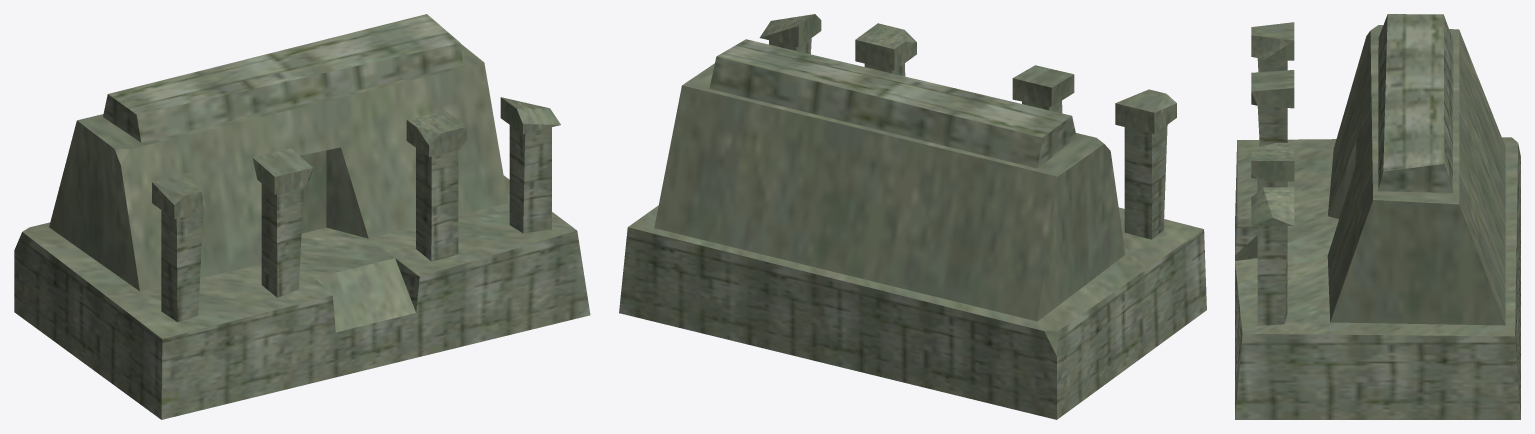
File: thm_nboo_gungan_imprv_building_s02_l2.fbx
3 renders of one model, left to right at view 1: azimuth 30°, elevation 25°; view 2: azimuth 150°, elevation 25°; view 3: azimuth 270°, elevation 25°, orthographic. The views are drawn at different scales.
Parts seen in each view (by area): view 1: mesh_node; view 2: mesh_node; view 3: mesh_node.
Boxes of the visible parts, left/top/right/bottom form: mesh_node: left=14, top=14, right=590, bottom=419; mesh_node: left=619, top=14, right=1206, bottom=419; mesh_node: left=1235, top=14, right=1520, bottom=419.
Size of the model in its own units: 32 by 16.83 by 19.
